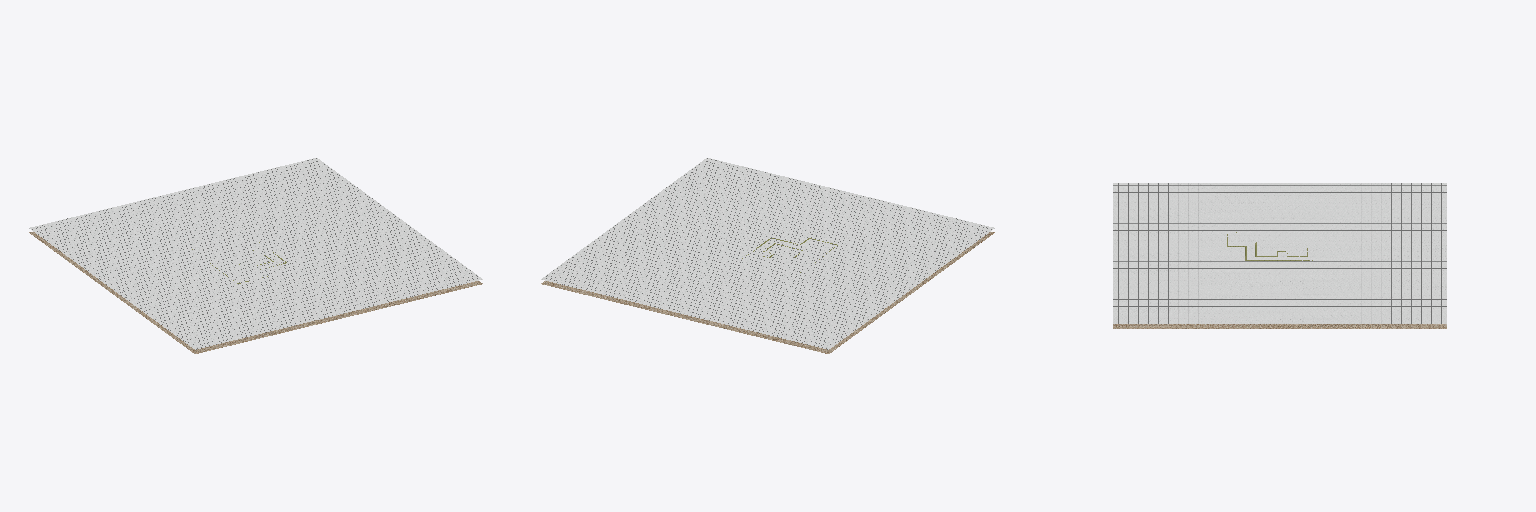
3 renders of one model, left to right at view 1: azimuth 30°, elevation 25°; view 2: azimuth 150°, elevation 25°; view 3: azimuth 270°, elevation 25°, orthographic.
Visible parts, largest first — view 1: Plane.001, Plane; view 2: Plane.001, Plane; view 3: Plane.001, Plane.
Boxes of the visible parts, x1,y1,x2,y2 form: Plane.001: [29, 158, 482, 349]; Plane: [29, 232, 482, 353]; Plane.001: [541, 158, 994, 349]; Plane: [541, 232, 994, 353]; Plane.001: [1113, 183, 1446, 323]; Plane: [1113, 324, 1446, 328].
Bounding box in the file's own units: 200 × 3 × 200.
Materials: 3 (3 with a texture image).